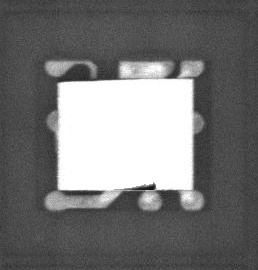DIE_BROKEN: (122, 180, 158, 191)
